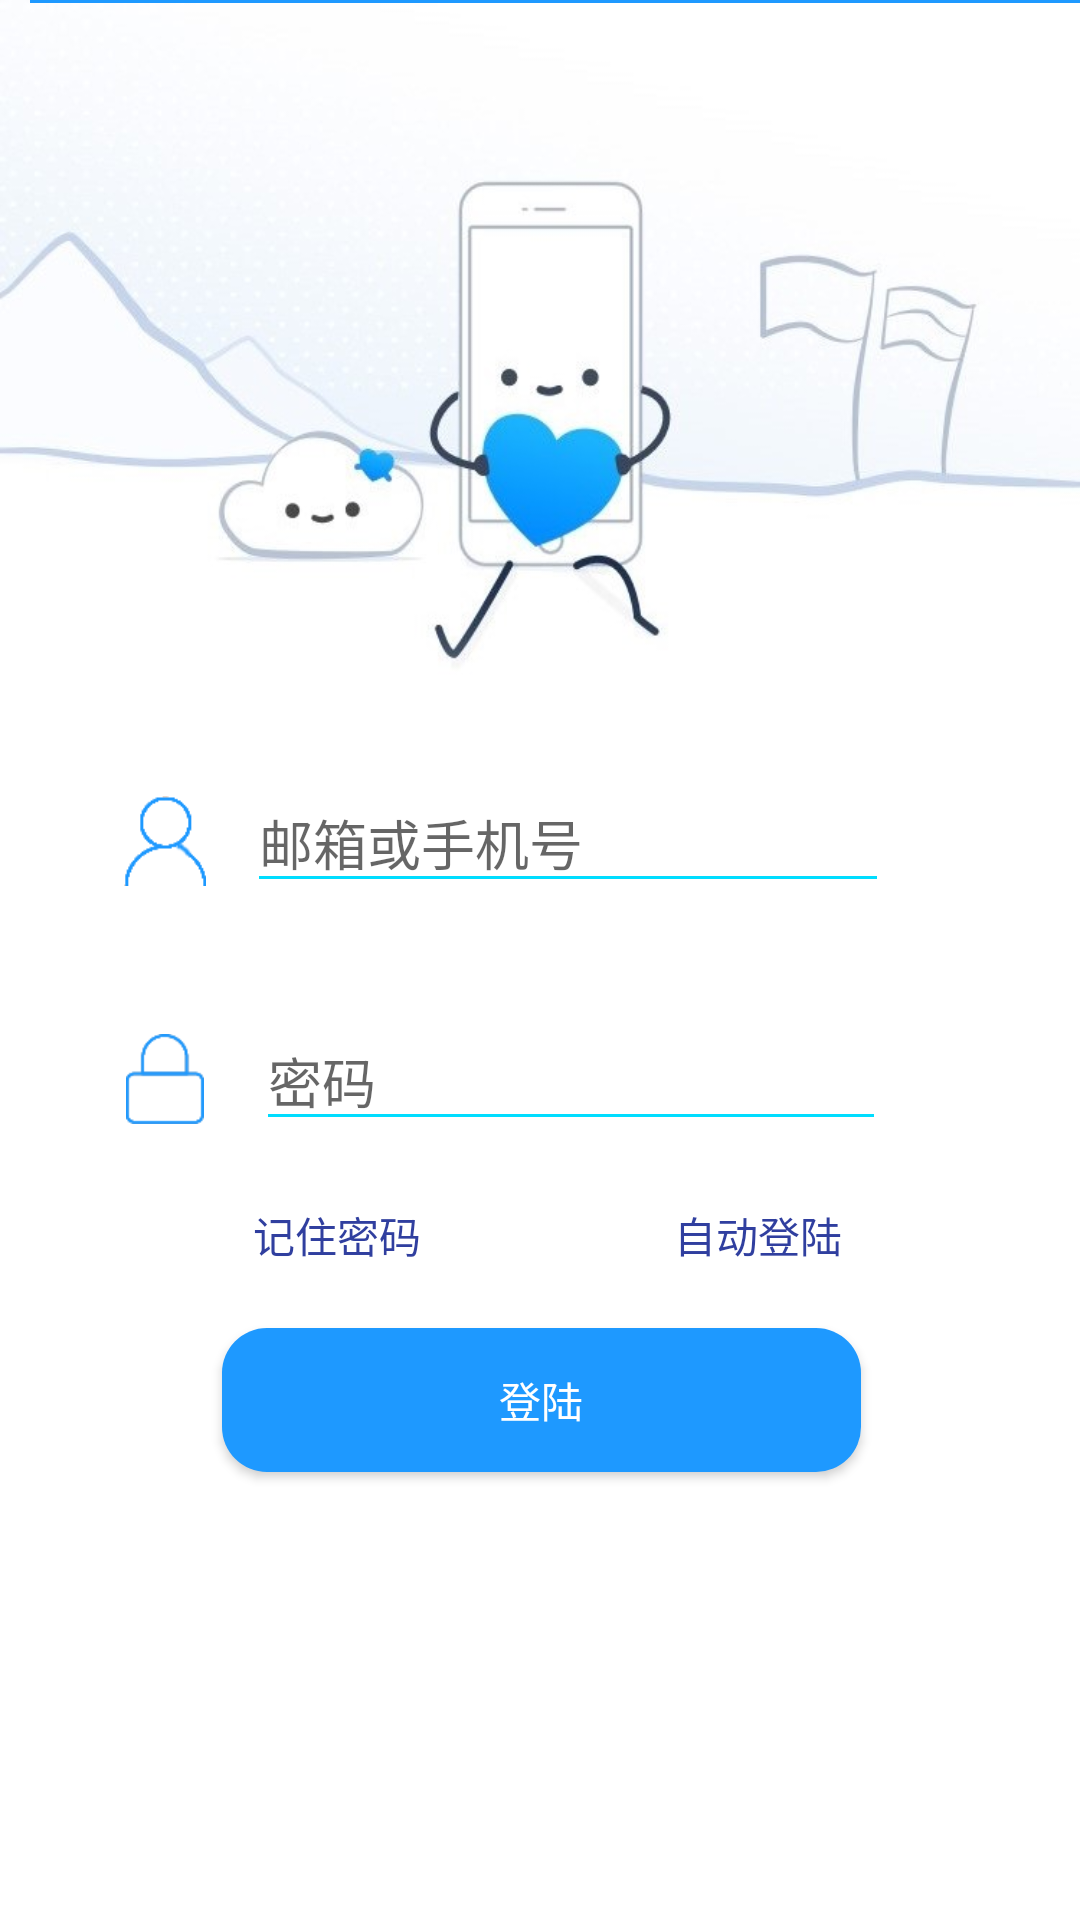

Screen size 1080w x 1920h. Icon name, then its box in pixels as BBox(x1, y1, x2, y2):
login account: BBox(124, 796, 206, 886)
login pw: BBox(126, 1034, 204, 1124)
